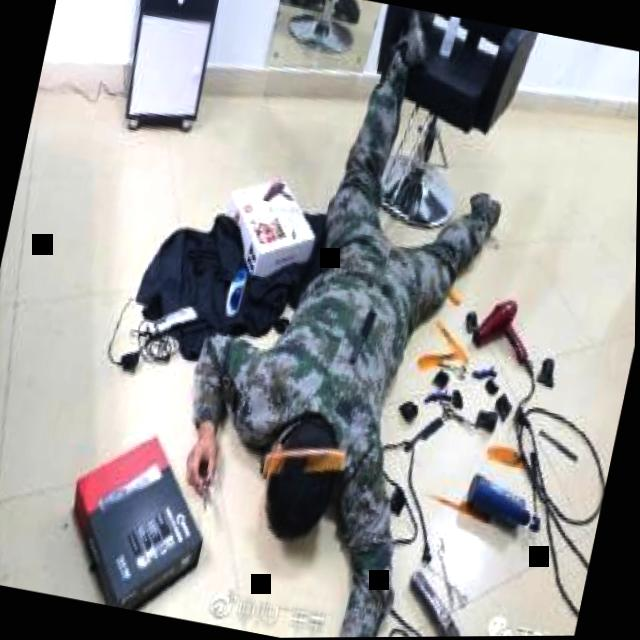Fall-Detected: (126, 0, 549, 639)
